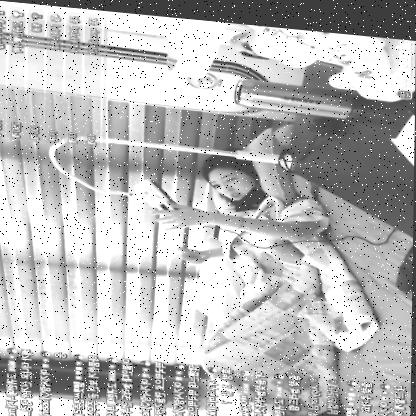streamer: (146, 139, 333, 416)
